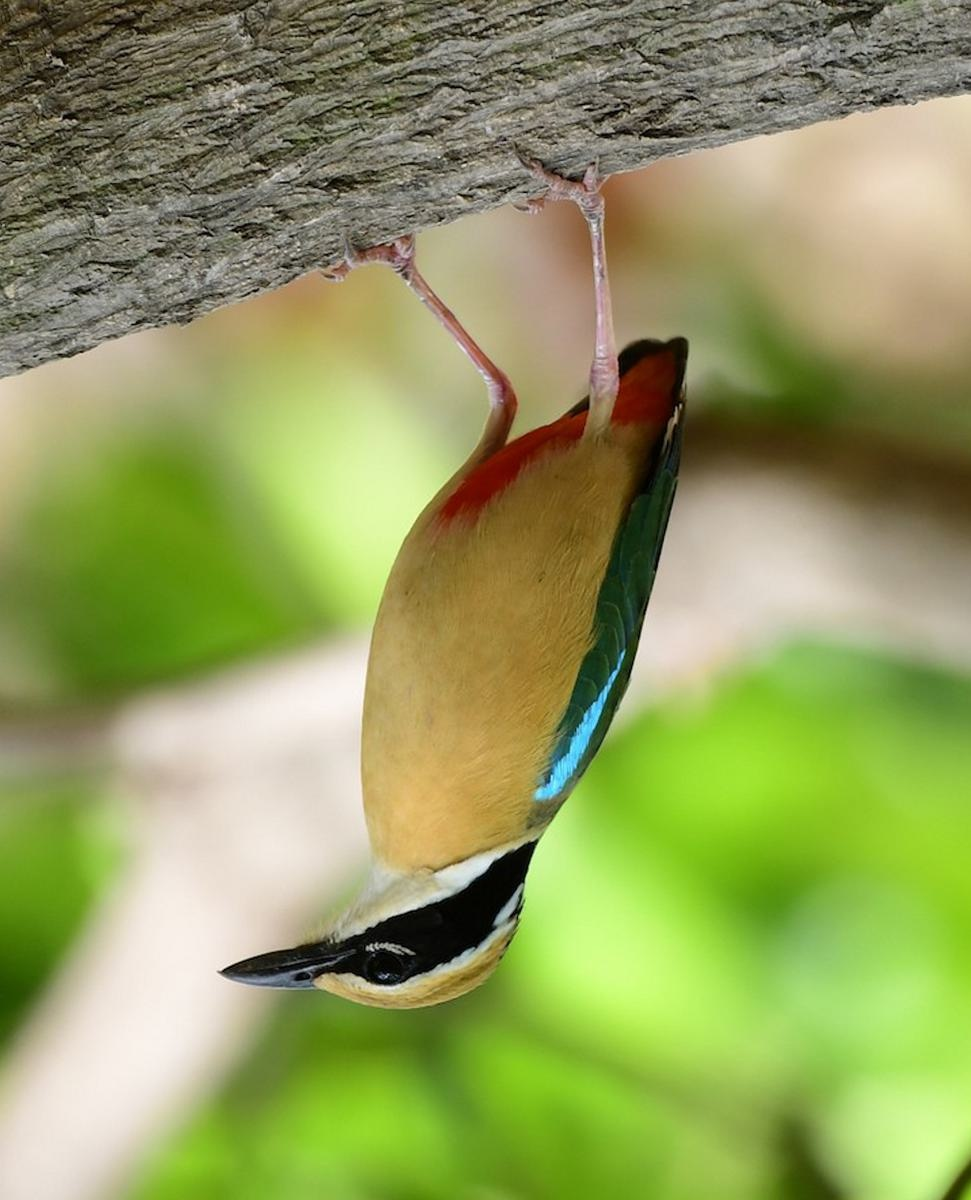pitta: (200, 185, 683, 1044)
